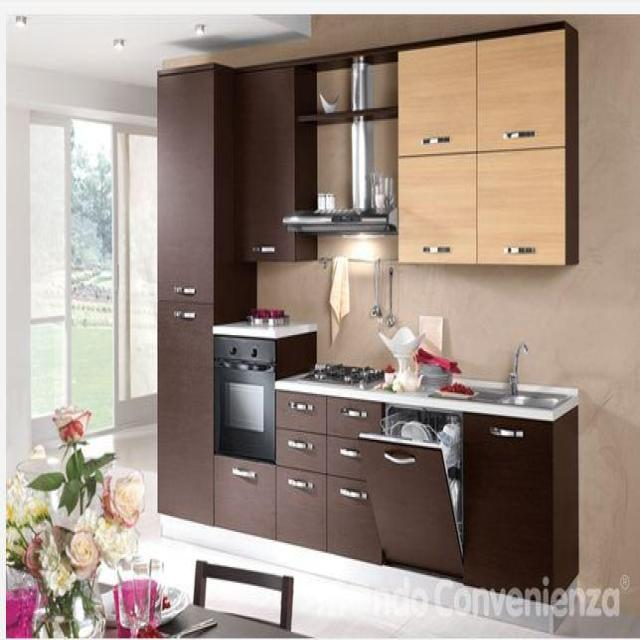dishwasher: (356, 397, 466, 588)
